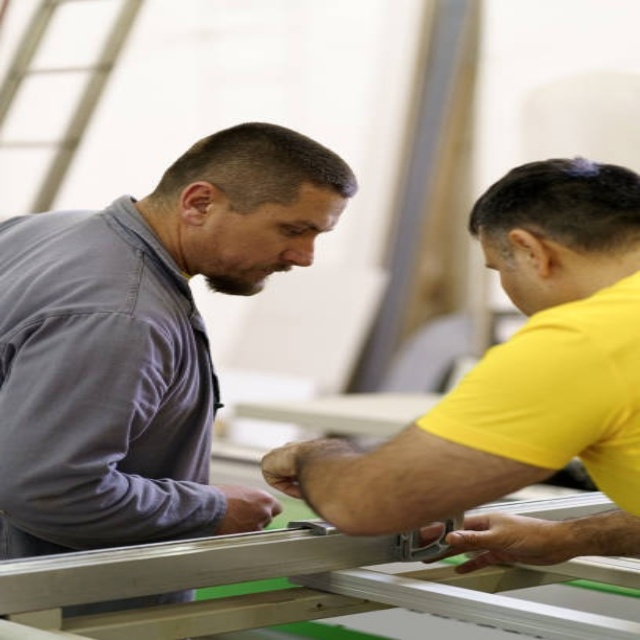Sin_gafas: (260, 203, 336, 244), (478, 234, 530, 279)
Sin_guantes: (424, 510, 598, 571), (260, 437, 358, 501), (212, 485, 283, 536)
Sin_mascara: (221, 254, 318, 294)
